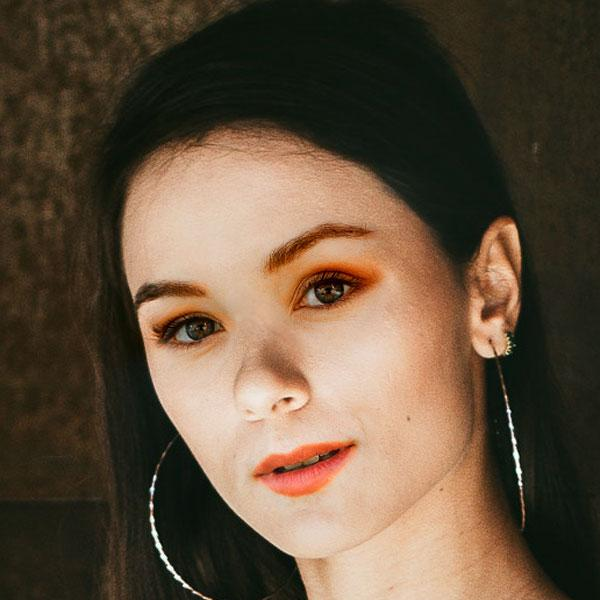Eyes: (282, 254, 381, 325), (146, 297, 232, 364)
